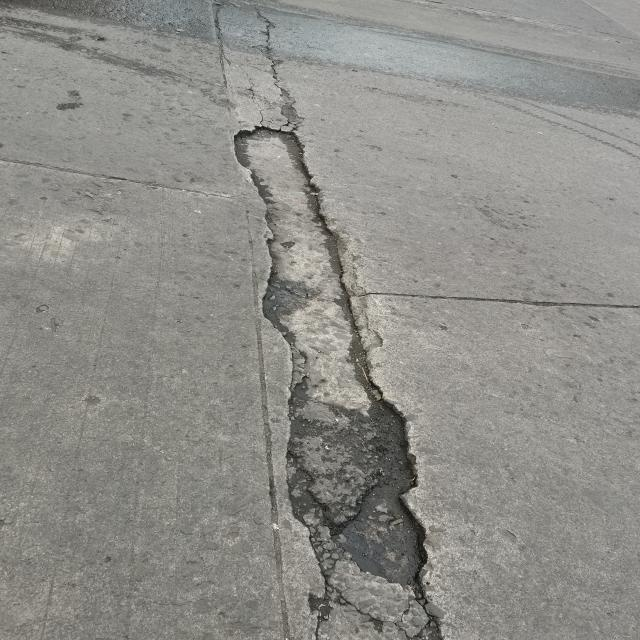pothole: (147, 61, 555, 640)
